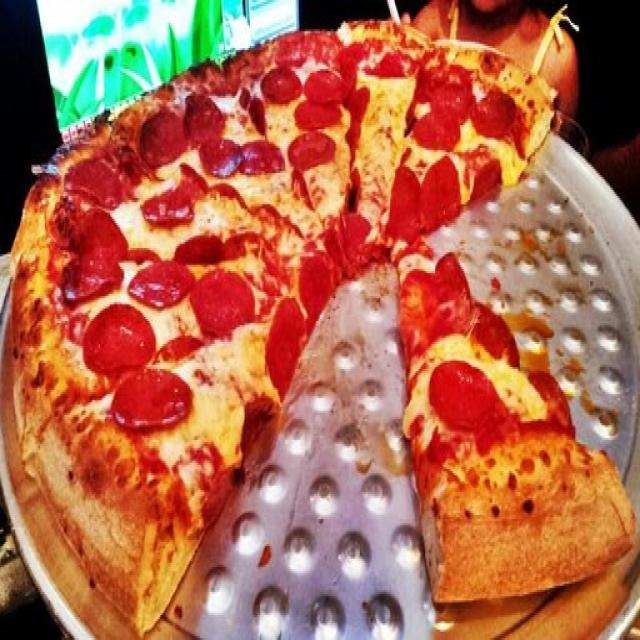Pepperoni: (428, 362, 498, 436), (414, 256, 470, 336), (64, 150, 134, 212), (118, 374, 187, 427), (91, 310, 154, 366), (72, 205, 108, 298), (198, 268, 248, 334), (425, 149, 467, 225), (429, 63, 463, 152), (138, 257, 193, 305), (272, 297, 300, 388), (392, 158, 421, 236), (259, 59, 307, 102), (181, 89, 224, 136), (301, 256, 339, 308), (145, 181, 192, 223), (137, 119, 184, 160), (481, 78, 510, 142), (200, 130, 240, 176), (291, 127, 336, 167), (483, 310, 519, 356), (241, 132, 282, 172), (466, 156, 504, 198), (307, 62, 348, 100), (296, 98, 346, 129), (347, 48, 363, 142), (182, 236, 236, 257)
Pizza: (10, 21, 634, 638)
